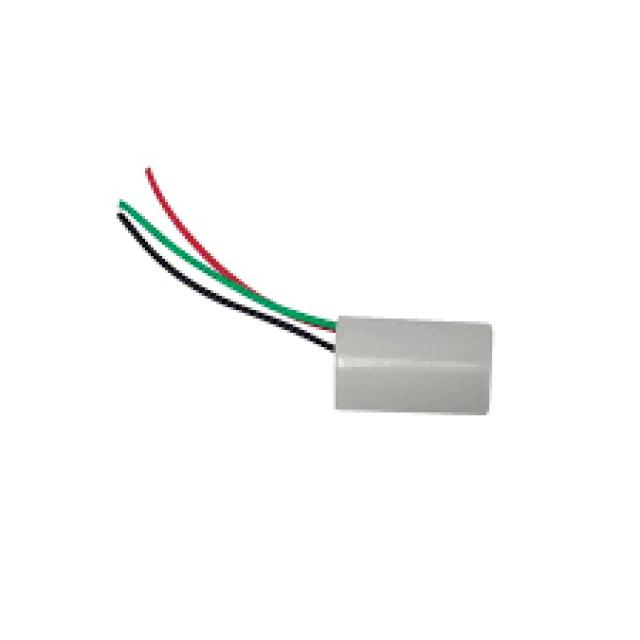Capacitor: (119, 171, 492, 415)
